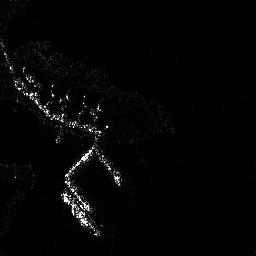ship: (60, 190, 90, 227)
